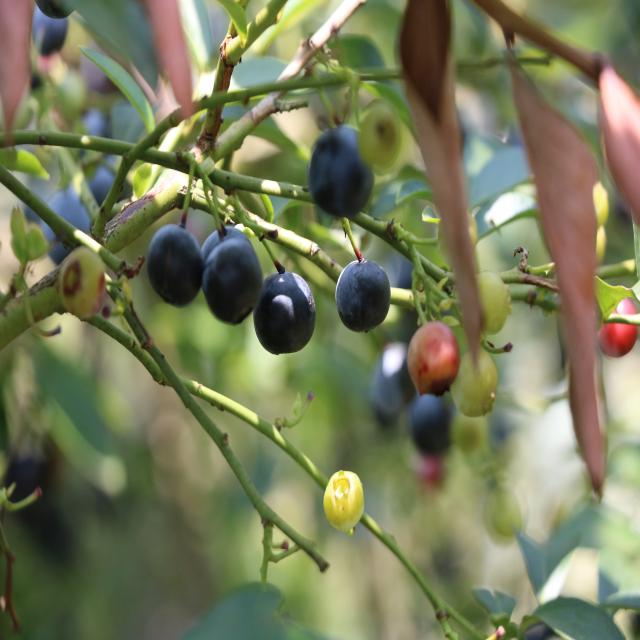blueberry: (302, 118, 380, 219), (195, 221, 266, 331), (248, 268, 319, 358), (144, 220, 208, 311), (37, 183, 97, 268), (330, 256, 392, 336), (404, 384, 460, 461), (372, 336, 421, 418), (70, 101, 118, 158), (27, 0, 72, 57), (82, 160, 134, 208)
blueberry-halfripe: (405, 318, 459, 392), (596, 291, 636, 363)
blueberry-unripe: (449, 344, 501, 418), (56, 245, 106, 320), (468, 263, 513, 337), (321, 466, 366, 532)
